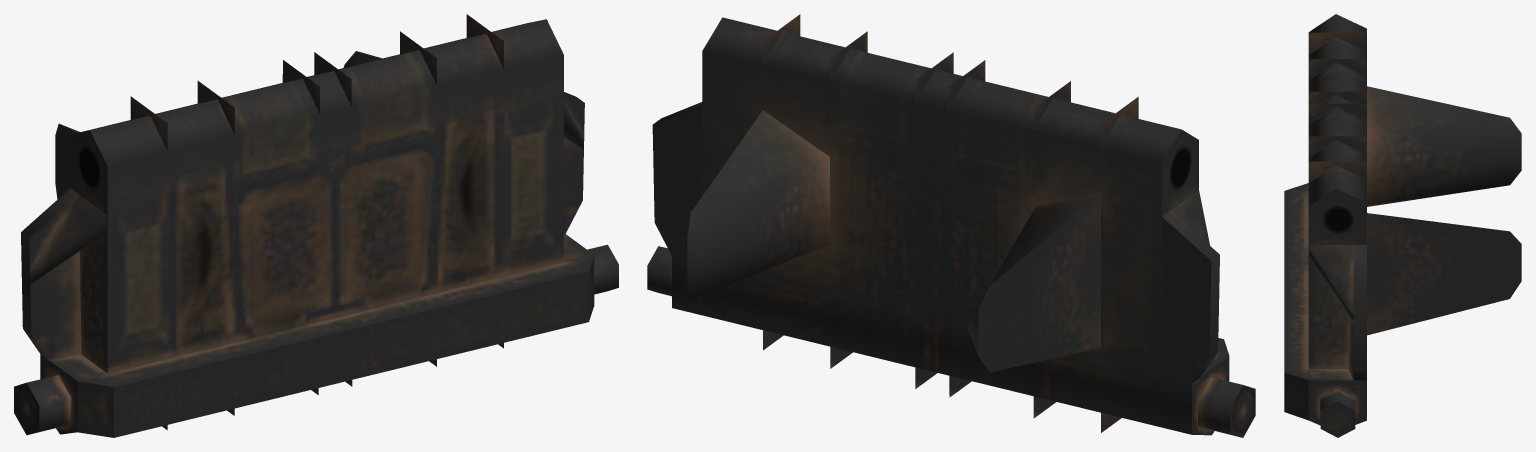
3 views of the same model, side by side, from view 1: azimuth 30°, elevation 25°; view 2: azimuth 150°, elevation 25°; view 3: azimuth 270°, elevation 25° (orthographic). The views are drawn at different scales.
Visible parts, largest first — view 1: set_0_group_0; view 2: set_0_group_0; view 3: set_0_group_0.
Boxes of the visible parts, left/top/right/bottom form: set_0_group_0: left=14, top=14, right=618, bottom=437; set_0_group_0: left=647, top=14, right=1255, bottom=437; set_0_group_0: left=1284, top=14, right=1521, bottom=437.
Bounding box in the file's own units: 0.27 × 0.1373 × 0.1218.
1 material, 1 textured.
